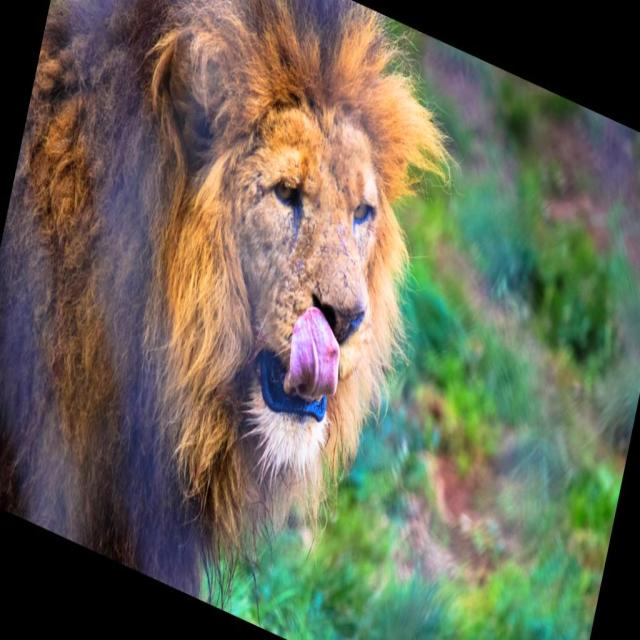Lion: (0, 0, 492, 639)
